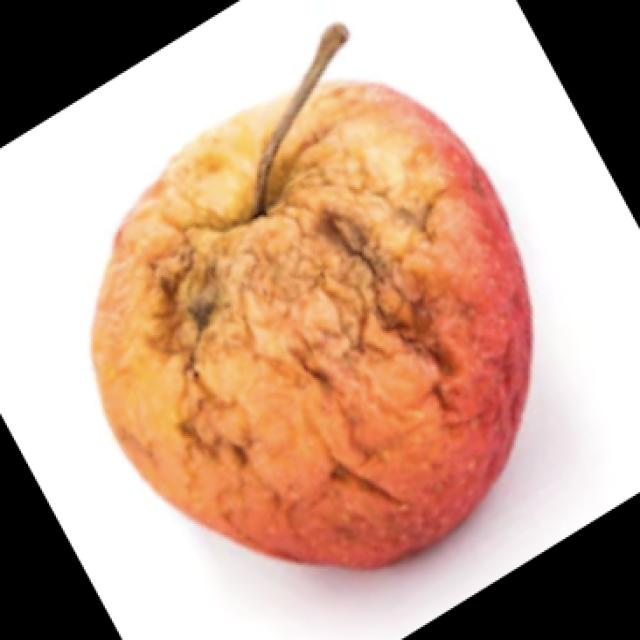overripe: (84, 69, 539, 575)
